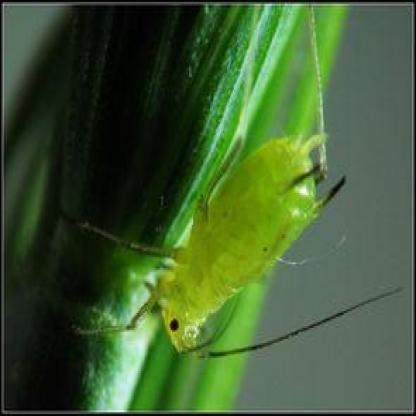aphid: (70, 81, 370, 370)
